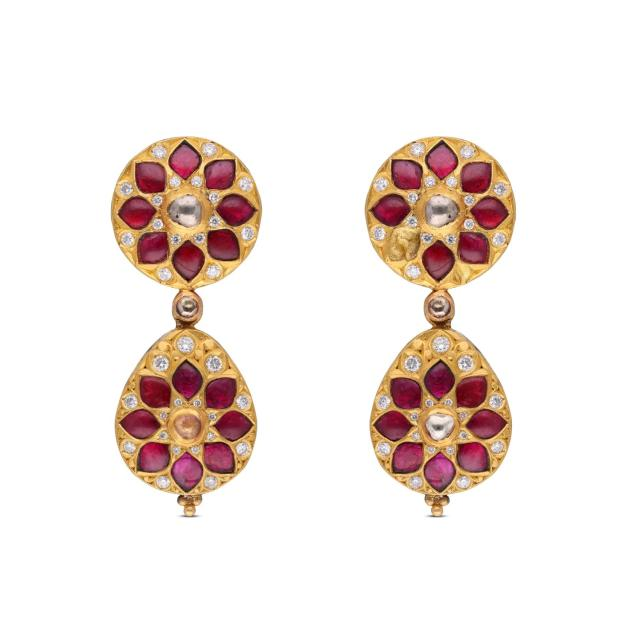missing gem: (388, 231, 419, 260), (174, 413, 199, 438)
